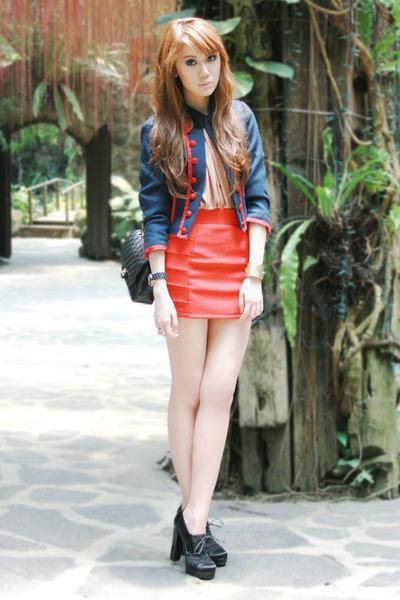short sleeve shirt: (137, 99, 272, 258)
skirt: (144, 206, 270, 320)
